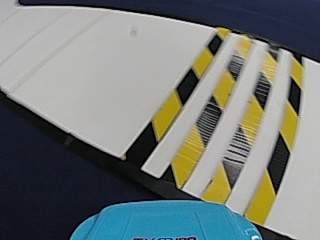bump: (135, 30, 304, 197)
